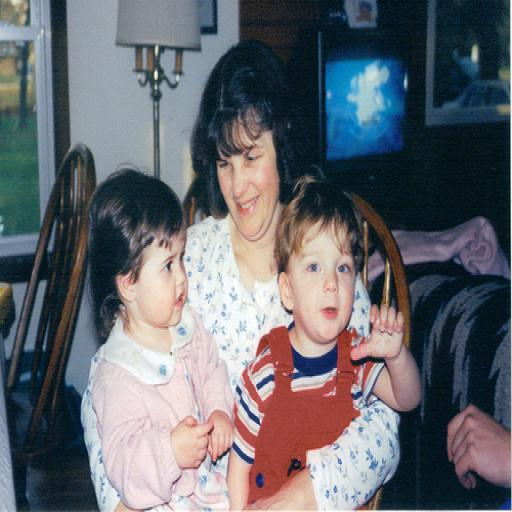person: (142, 22, 402, 510), (226, 165, 433, 510), (74, 165, 240, 510)
